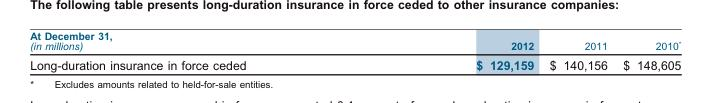table: (29, 29, 680, 71)
table column: (29, 29, 360, 71), (360, 29, 541, 71), (541, 29, 614, 71), (614, 29, 680, 71)
table column header: (29, 29, 680, 54)
table row: (29, 29, 680, 54), (29, 54, 680, 71)
